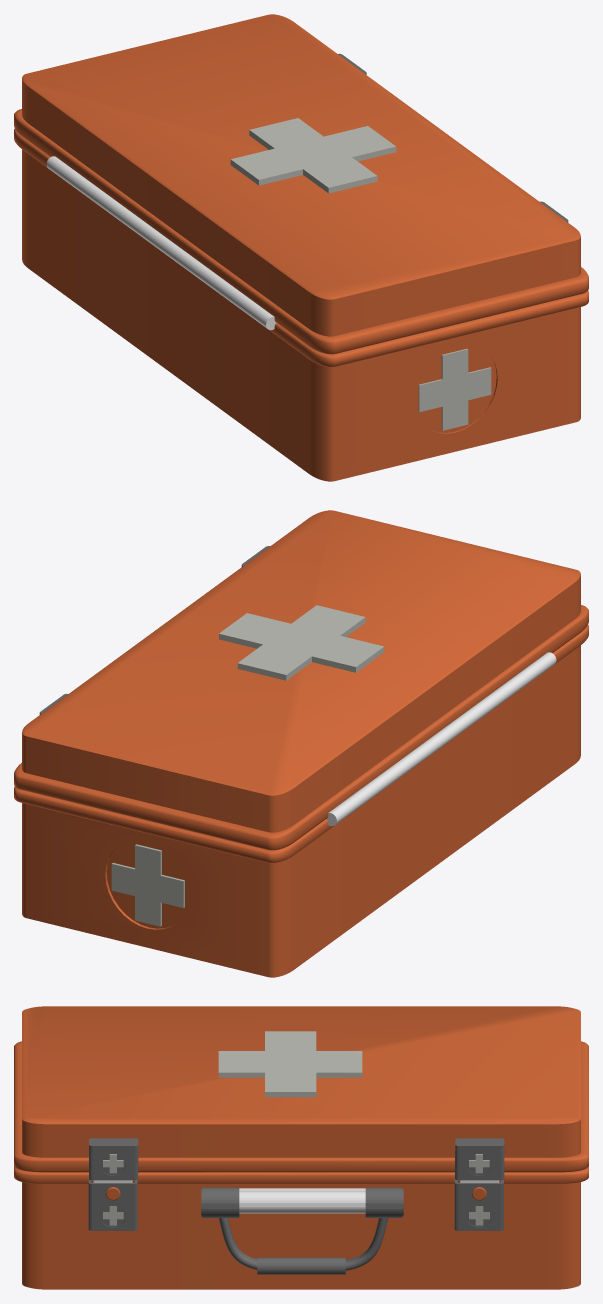
Rendered from medkit.fbx.
3 views of the same model, one above another, from view 1: azimuth 30°, elevation 25°; view 2: azimuth 150°, elevation 25°; view 3: azimuth 270°, elevation 25° (orthographic). The views are drawn at different scales.
Parts seen in each view (by area): view 1: Plane, Cube.011, Cylinder.004, Cube; view 2: Plane, Cube.011, Cylinder.004, Cube; view 3: Plane, Cube.011, Cylinder.001, Cylinder, Cube.008, Cube.001, Cube.004, Cube.005, Cylinder.003, NurbsCurve.
Part boxes in pixels (x1,y1,x2,y2): Plane: (14, 14, 588, 481); Cube.011: (230, 118, 396, 193); Cylinder.004: (46, 156, 276, 330); Cube: (418, 348, 491, 430); Plane: (14, 510, 588, 977); Cube.011: (219, 605, 384, 680); Cylinder.004: (326, 652, 556, 826); Cube: (111, 844, 184, 926); Plane: (14, 1006, 588, 1289); Cube.011: (218, 1031, 362, 1097); Cylinder.001: (239, 1188, 365, 1213); Cylinder: (201, 1187, 403, 1217); Cube.008: (88, 1177, 137, 1230); Cube.001: (454, 1177, 503, 1230); Cube.004: (455, 1138, 504, 1180); Cube.005: (89, 1138, 138, 1180); Cylinder.003: (257, 1257, 345, 1274); NurbsCurve: (218, 1218, 388, 1270).
Bounding box in the file's own units: 33.02 × 19.27 × 58.18.
